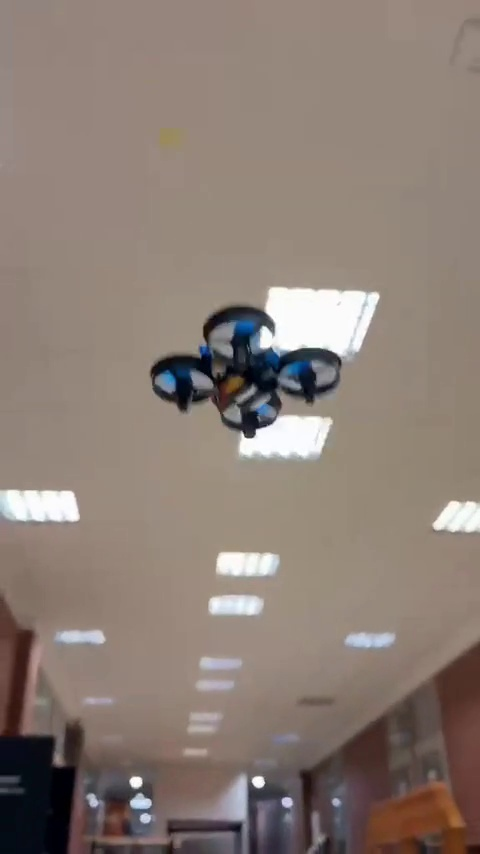drone: (152, 304, 339, 446)
